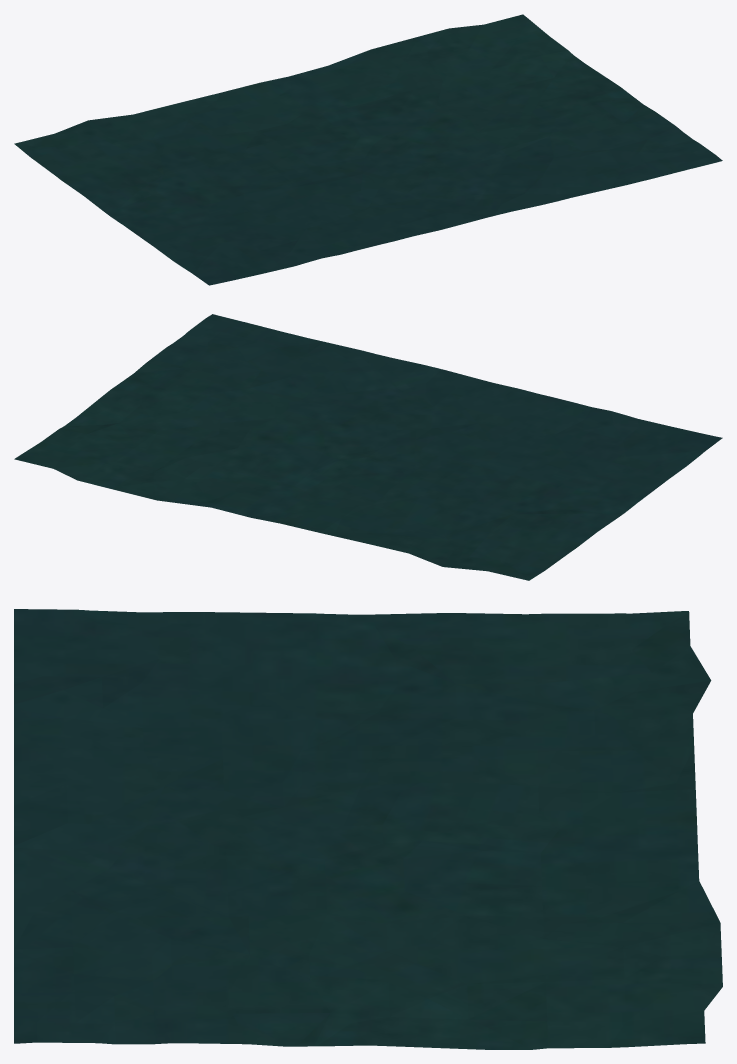
3 renders of one model, top to bottom at view 1: azimuth 30°, elevation 25°; view 2: azimuth 150°, elevation 25°; view 3: azimuth 270°, elevation 25°, orthographic. The views are drawn at different scales.
Size of the model in its own units: 52.22 by 0.592 by 36.08.
Materials: 2 (2 with a texture image).
